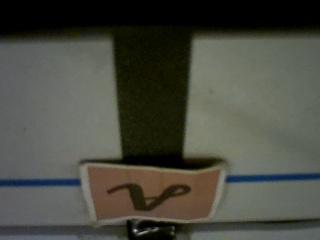A: (89, 169, 215, 219)
